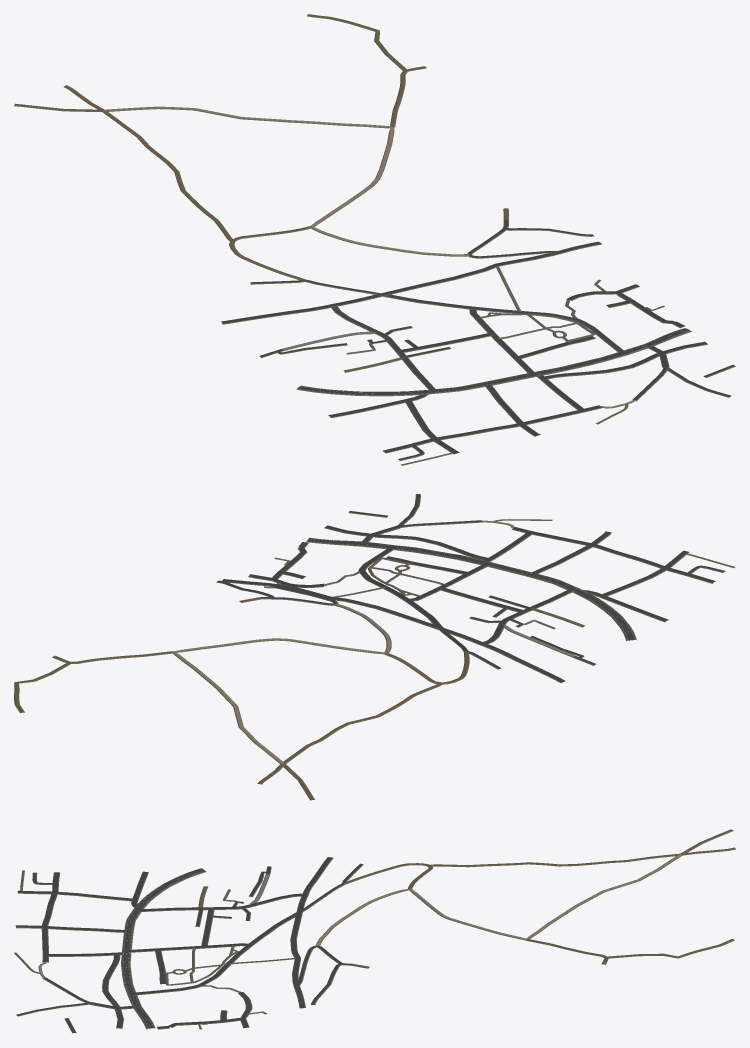
3 renders of one model, top to bottom at view 1: azimuth 30°, elevation 25°; view 2: azimuth 150°, elevation 25°; view 3: azimuth 270°, elevation 25°, orthographic. The views are drawn at different scales.
Visible parts, largest first — view 1: roads; view 2: roads; view 3: roads.
Part boxes in pixels (left/top/right/bottom): roads: left=14, top=14, right=735, bottom=465; roads: left=14, top=494, right=734, bottom=800; roads: left=14, top=829, right=735, bottom=1033.
Bounding box in the file's own units: 412 × 90.9 × 803.
